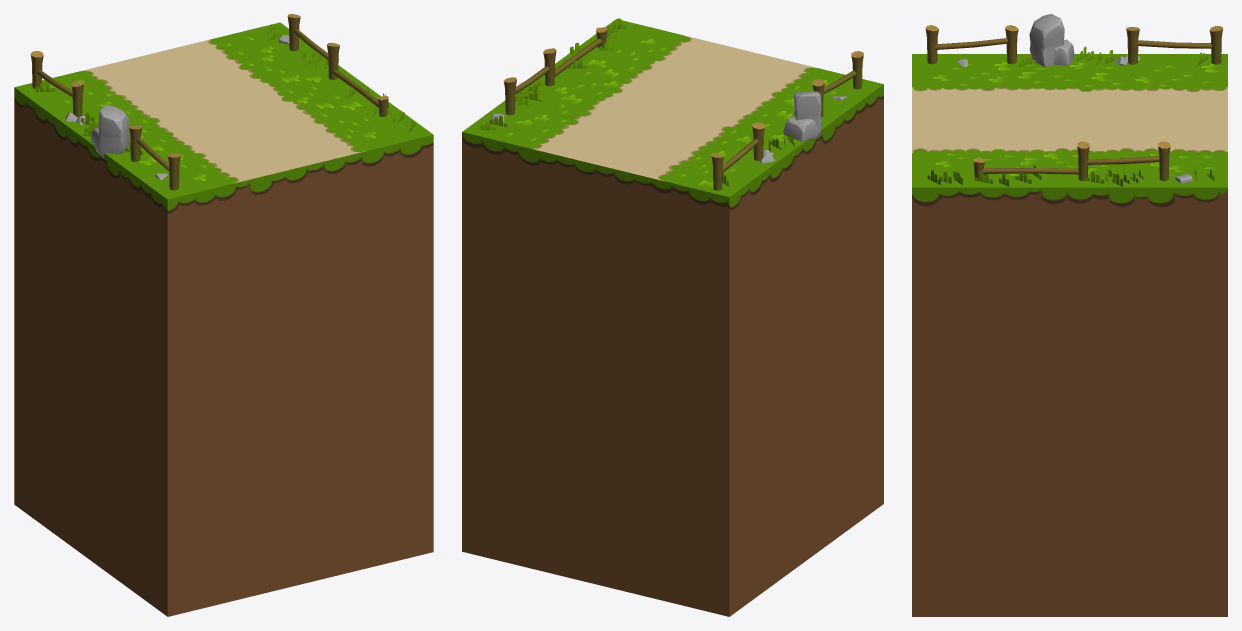
File: Plataforma 1.fbx
3 views of the same model, side by side, from view 1: azimuth 30°, elevation 25°; view 2: azimuth 150°, elevation 25°; view 3: azimuth 270°, elevation 25° (orthographic). The views are drawn at different scales.
Parts seen in each view (by area): view 1: Plataforma 1.001, Cube.083; view 2: Plataforma 1.001, Cube.083, Cube.084; view 3: Plataforma 1.001, Cube.083, Cylinder.069, Cylinder.059, Cylinder.070, Cylinder.079.
Boxes of the visible parts, <box> form: Plataforma 1.001: <box>14,22,433,616</box>; Cube.083: <box>98,105,129,158</box>; Plataforma 1.001: <box>462,19,883,616</box>; Cube.083: <box>793,91,821,137</box>; Cube.084: <box>783,116,818,141</box>; Plataforma 1.001: <box>912,54,1227,616</box>; Cube.083: <box>1029,14,1064,66</box>; Cylinder.069: <box>982,168,1079,174</box>; Cylinder.059: <box>1137,40,1212,48</box>; Cylinder.070: <box>1086,156,1159,164</box>; Cylinder.079: <box>934,38,1008,49</box>.
Bounding box in the file's own units: 1021 × 1641 × 1000.
